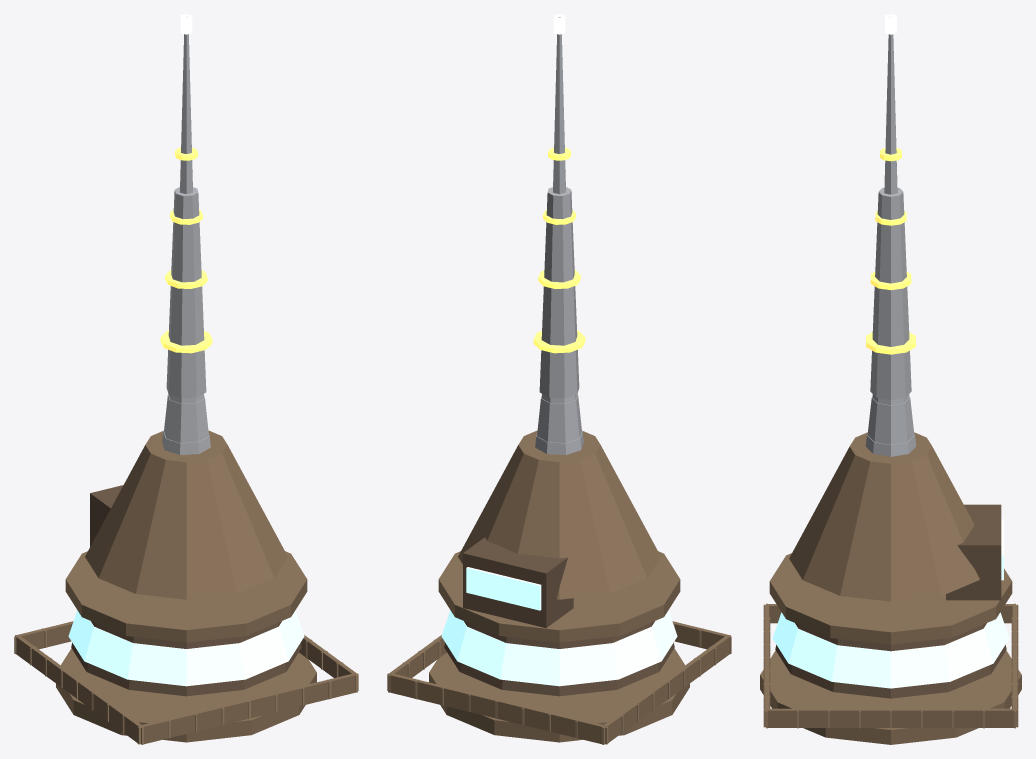
Rendered from 08_summit.glb.
The picture shows the model from 3 angles, left to right: view 1: azimuth 30°, elevation 25°; view 2: azimuth 150°, elevation 25°; view 3: azimuth 270°, elevation 25°; orthographic projection.
Parts seen in each view (by area): view 1: summit_iron, summit_steel, summit_glass_nocol, summit_irondark, summit_signal_nocol, summit_ironlight_nocol; view 2: summit_iron, summit_glass_nocol, summit_steel, summit_irondark, summit_signal_nocol, summit_ironlight_nocol; view 3: summit_iron, summit_steel, summit_glass_nocol, summit_irondark, summit_signal_nocol, summit_ironlight_nocol.
Boxes of the visible parts, <box> form: summit_iron: <box>15,430,356,744</box>; summit_steel: <box>162,16,210,454</box>; summit_glass_nocol: <box>68,610,304,686</box>; summit_irondark: <box>71,485,301,696</box>; summit_signal_nocol: <box>160,147,212,353</box>; summit_ironlight_nocol: <box>14,621,358,744</box>; summit_iron: <box>389,430,730,744</box>; summit_glass_nocol: <box>441,567,677,686</box>; summit_steel: <box>535,17,583,454</box>; summit_irondark: <box>444,537,674,696</box>; summit_signal_nocol: <box>533,147,585,353</box>; summit_ironlight_nocol: <box>387,621,731,744</box>; summit_iron: <box>760,432,1021,744</box>; summit_steel: <box>865,34,916,456</box>; summit_glass_nocol: <box>772,519,1009,688</box>; summit_irondark: <box>775,504,1006,698</box>; summit_signal_nocol: <box>866,148,915,354</box>; summit_ironlight_nocol: <box>763,603,1018,728</box>.
Bounding box in the file's own units: 19 × 53.9 × 19.
